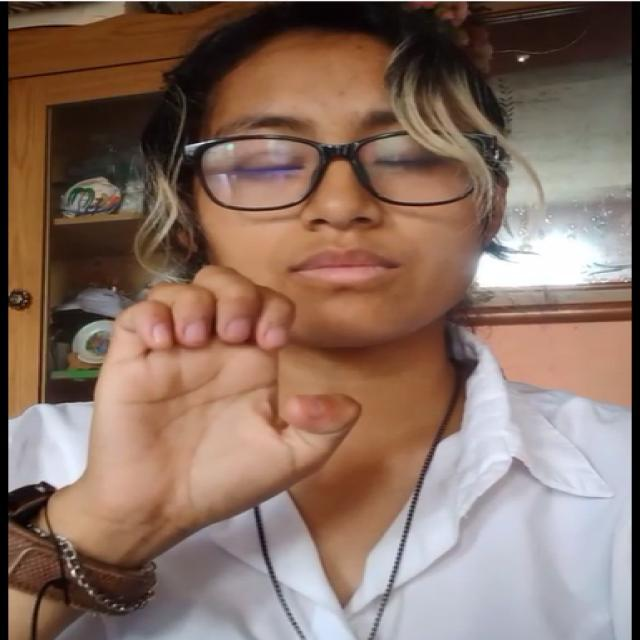E: (80, 272, 368, 524)
